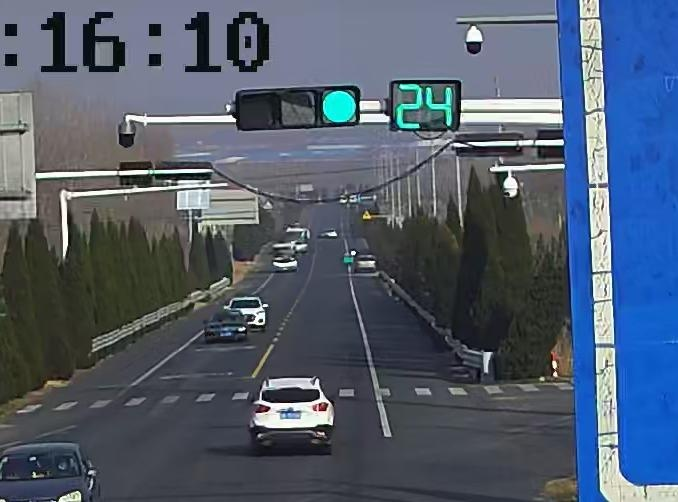green: (319, 89, 360, 125)
greentime: (394, 79, 457, 129)
